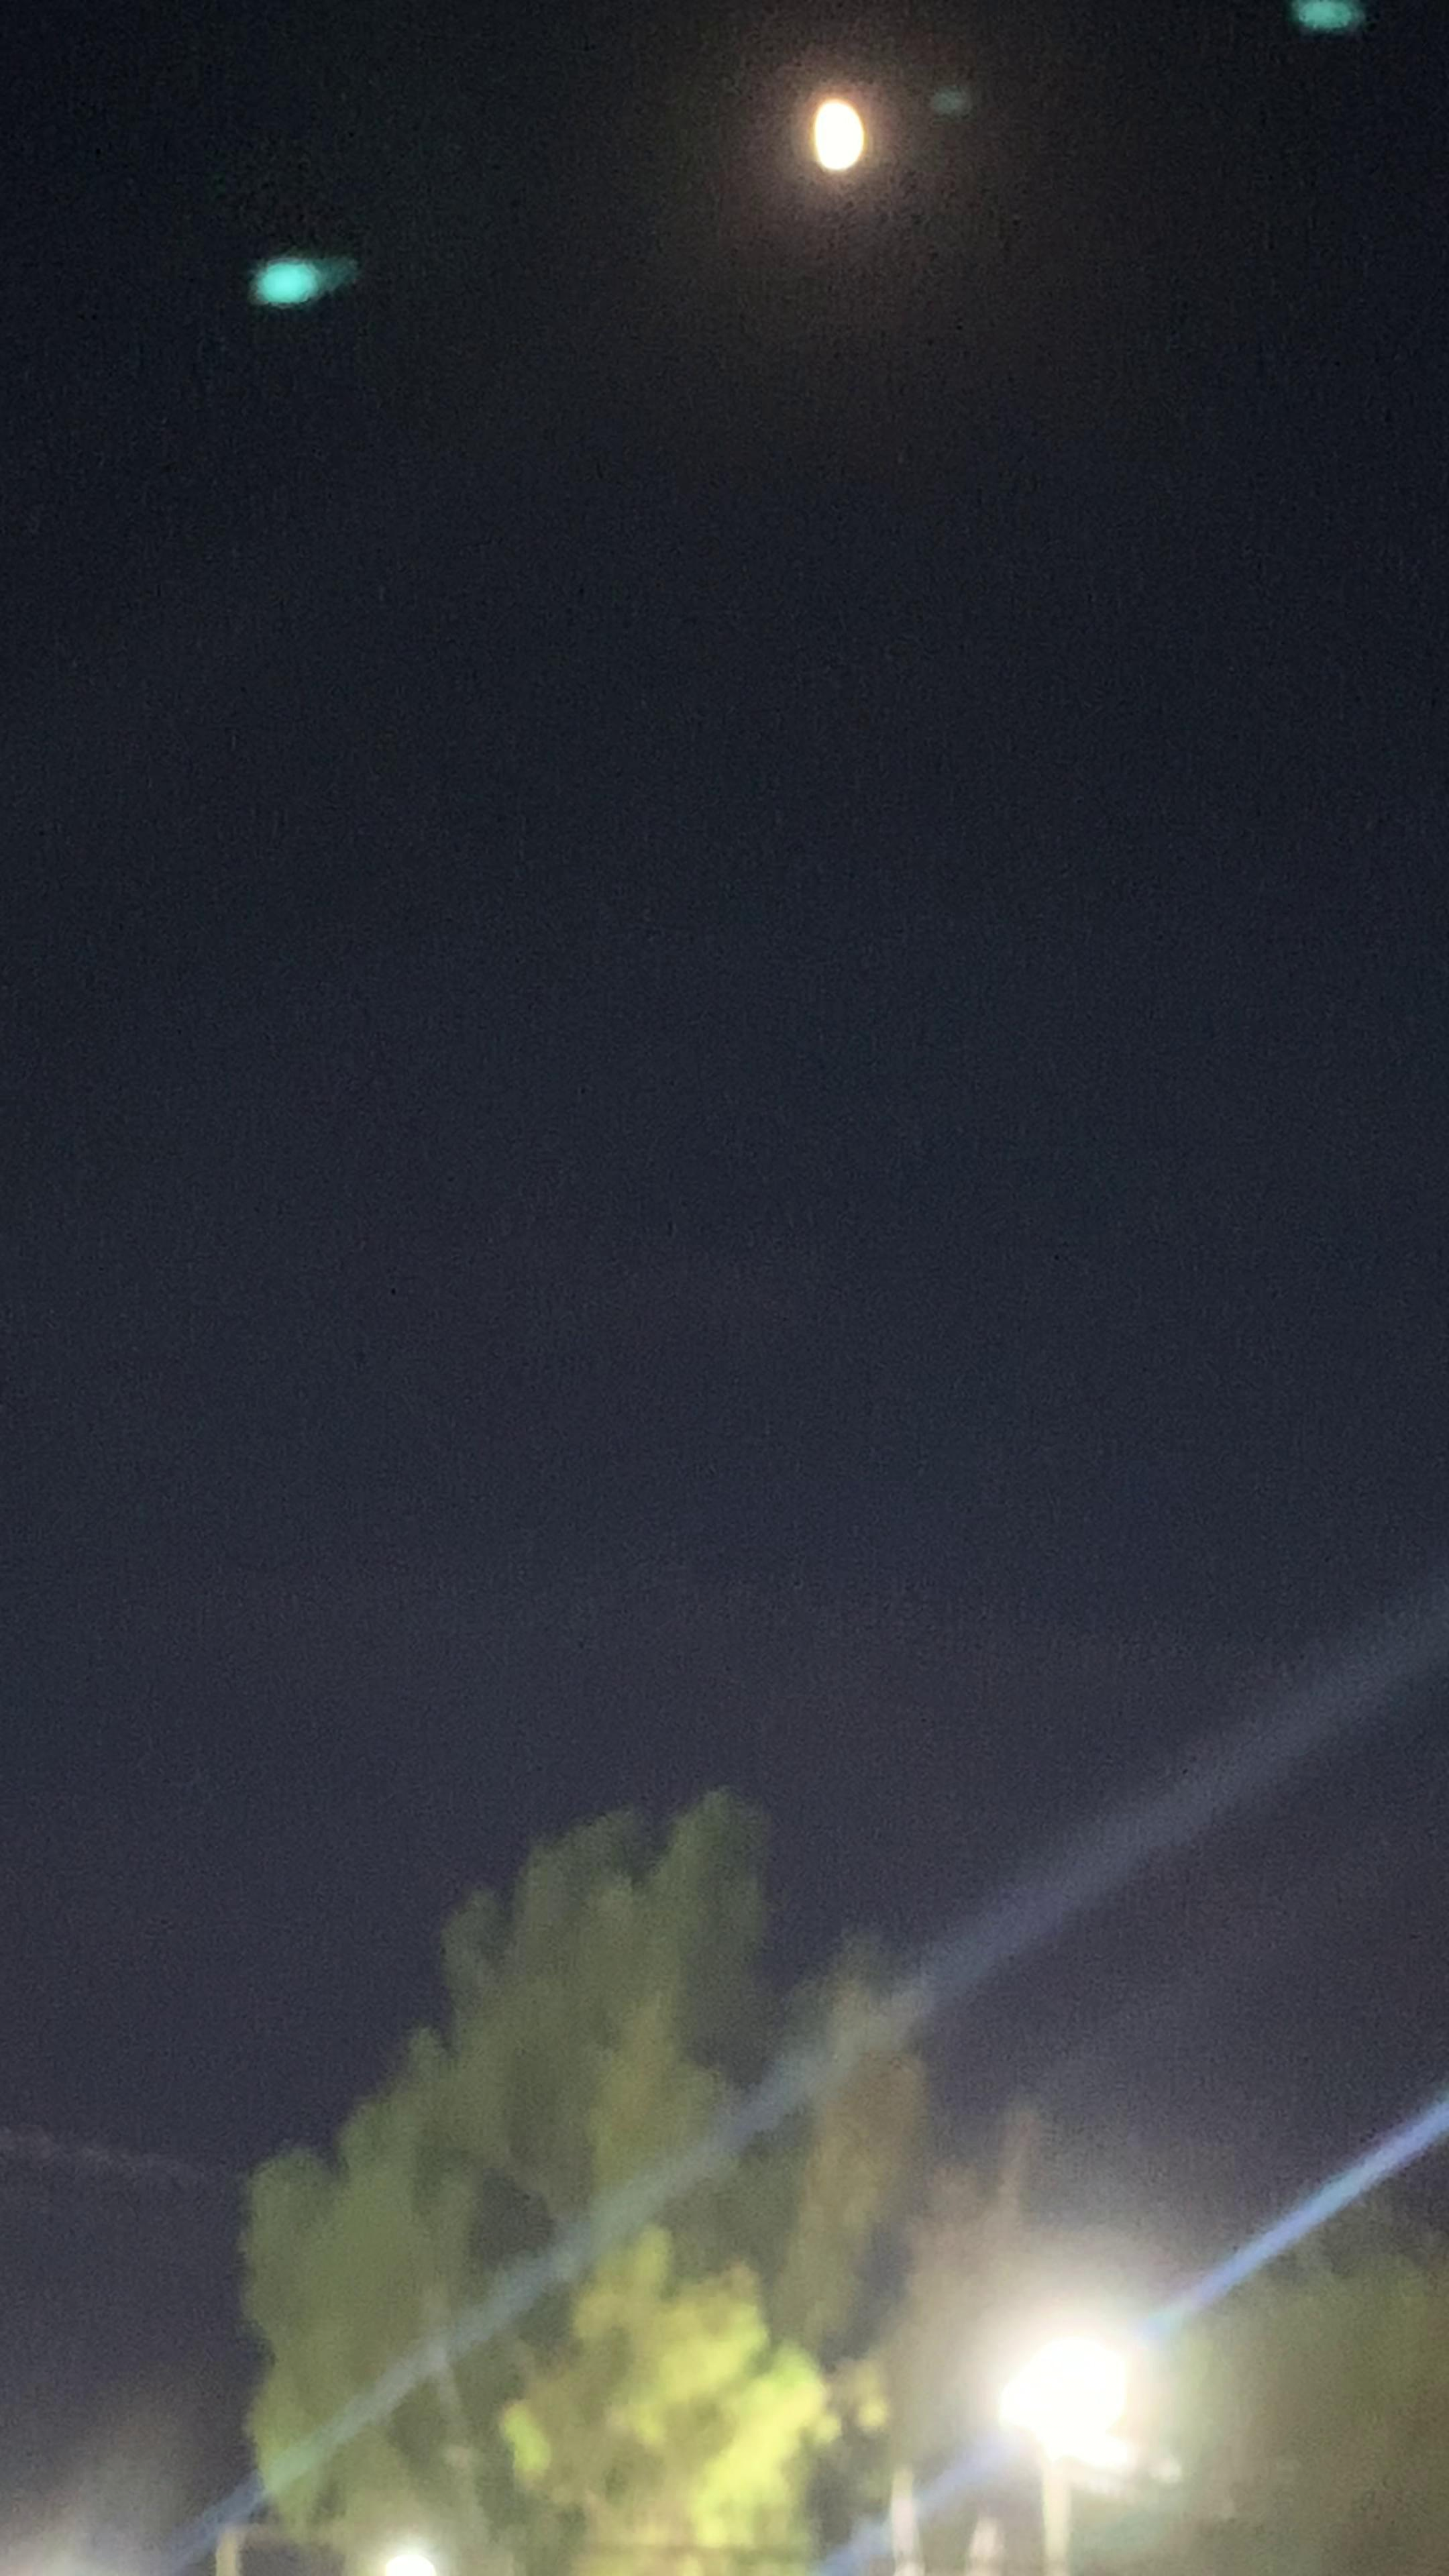moon: (775, 81, 908, 203)
